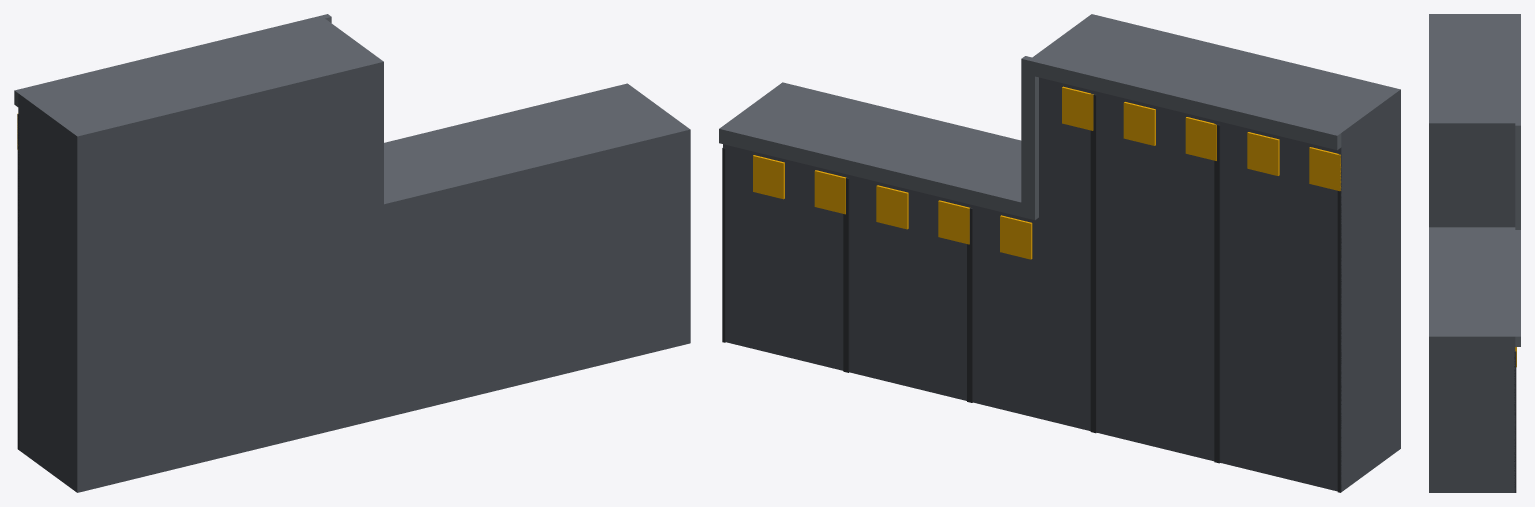
3 renders of one model, left to right at view 1: azimuth 30°, elevation 25°; view 2: azimuth 150°, elevation 25°; view 3: azimuth 270°, elevation 25°, orthographic. The views are drawn at different scales.
Parts seen in each view (by area): view 1: k2wf; view 2: k2wf; view 3: k2wf.
Part boxes in pixels (left/top/right/bottom): k2wf: left=14, top=14, right=690, bottom=492; k2wf: left=719, top=14, right=1400, bottom=492; k2wf: left=1429, top=14, right=1520, bottom=492.
Size of the model in its own units: 9 by 5 by 1.6.
